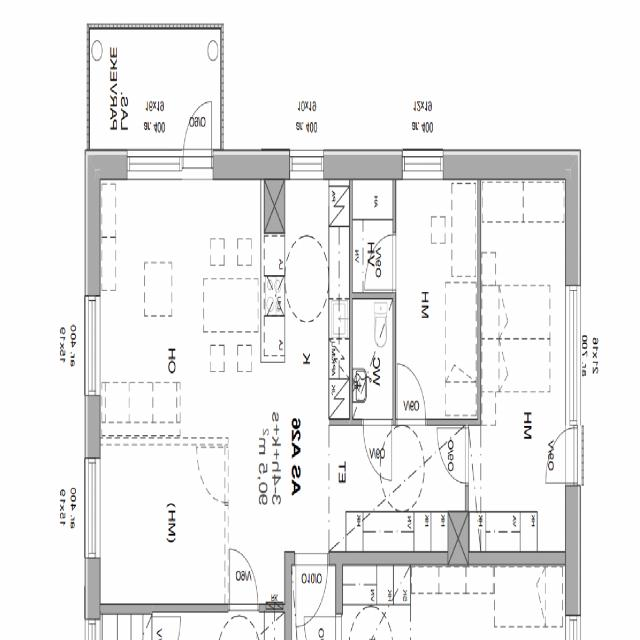door: (183, 94, 212, 180), (296, 552, 328, 628), (537, 429, 581, 484), (436, 428, 468, 485), (230, 549, 258, 613), (363, 420, 392, 480), (365, 235, 396, 290), (398, 366, 425, 425)
